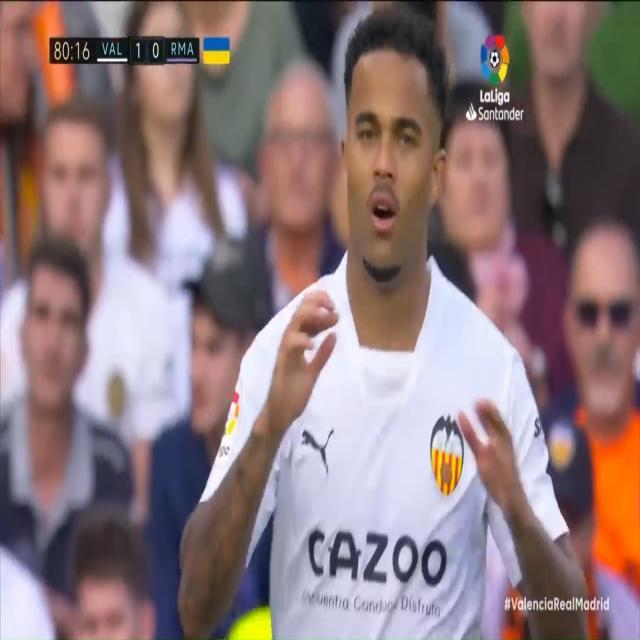player: (189, 1, 594, 640)
